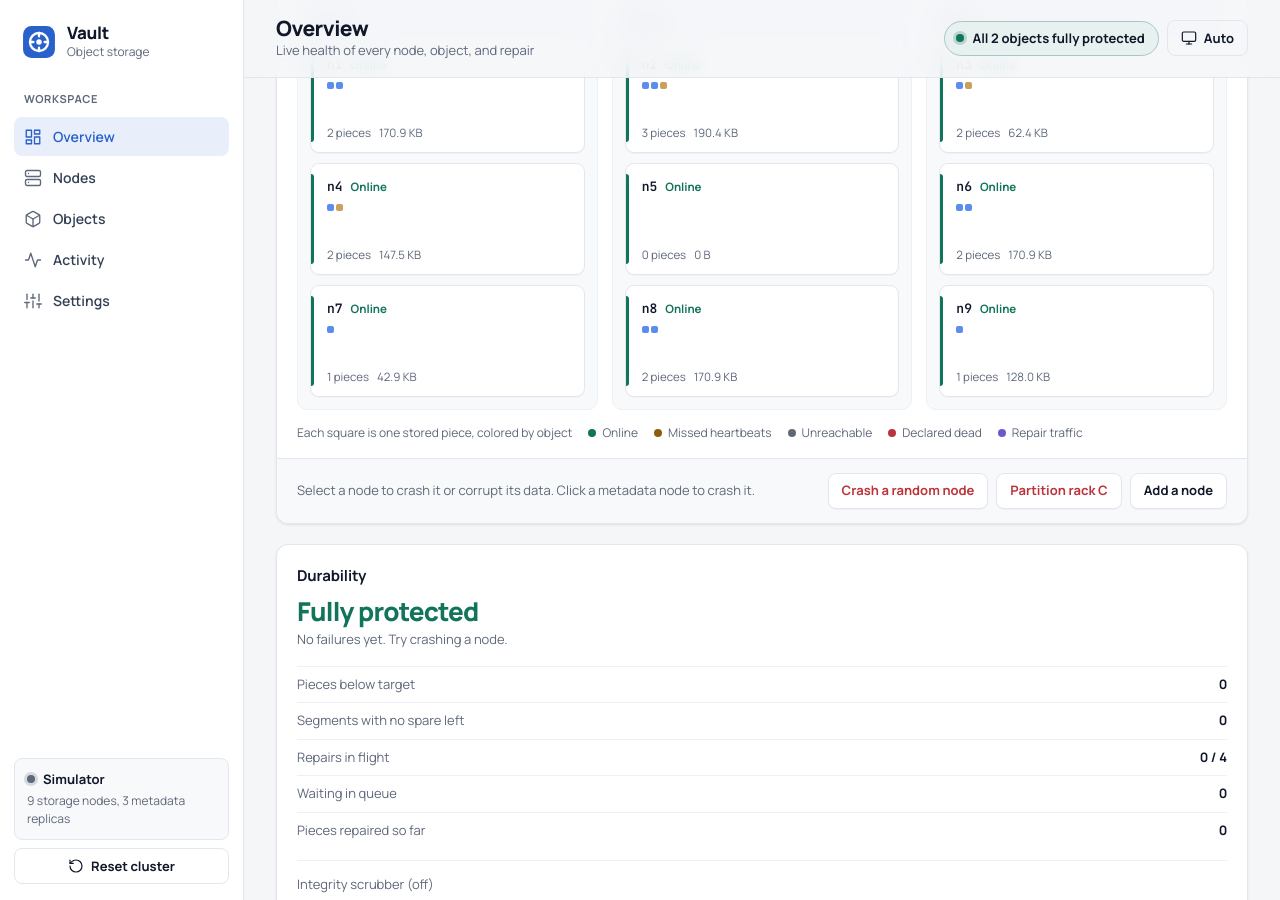
<App /> › adding a node shows a new tile
The image size is (1280, 900).
(page scrolled)
Click the button "Add a node".
click(1178, 491)  # box [1130,473,1227,509]
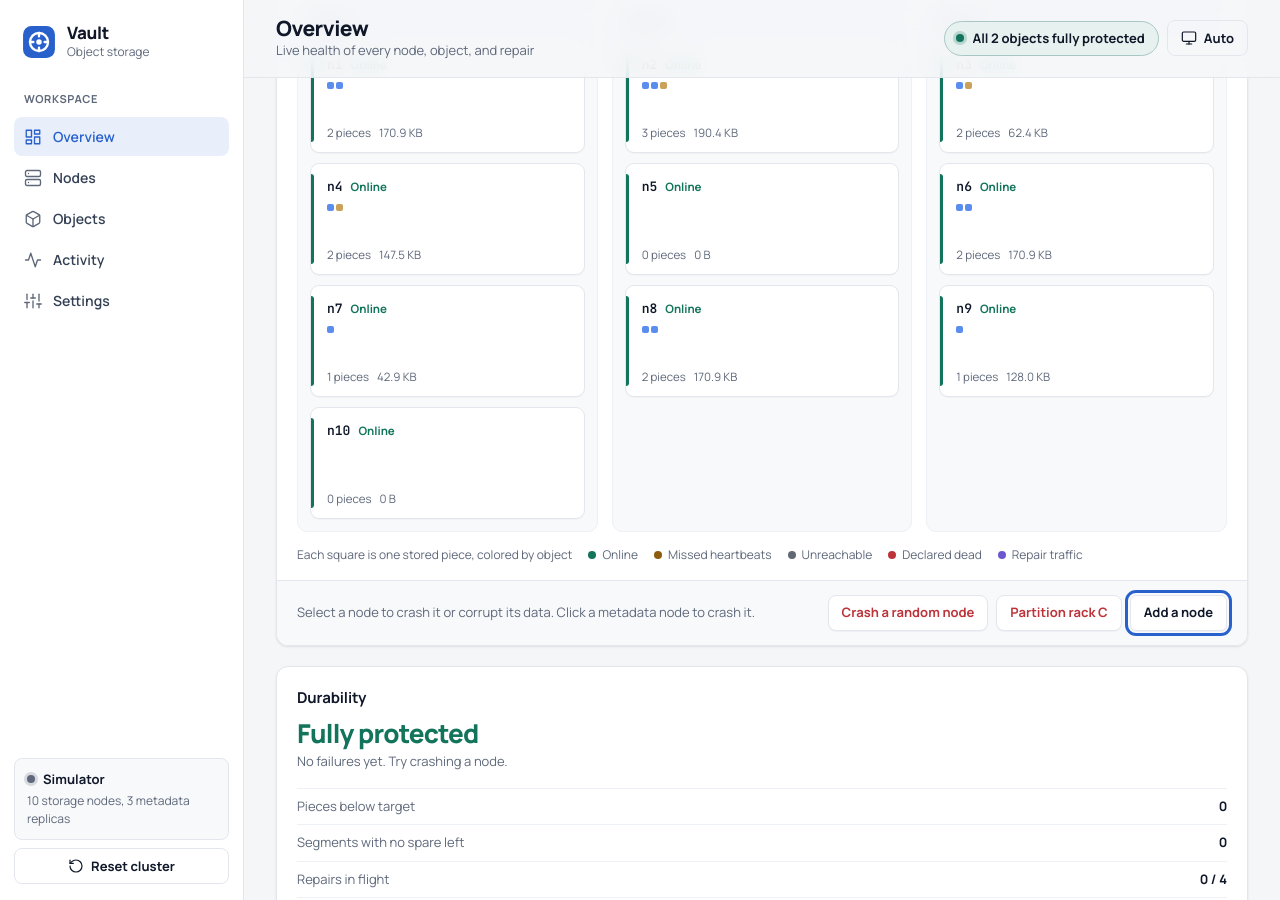
Check: the button with aria-label "n10, rack" is shown, box [310,407,585,519]
